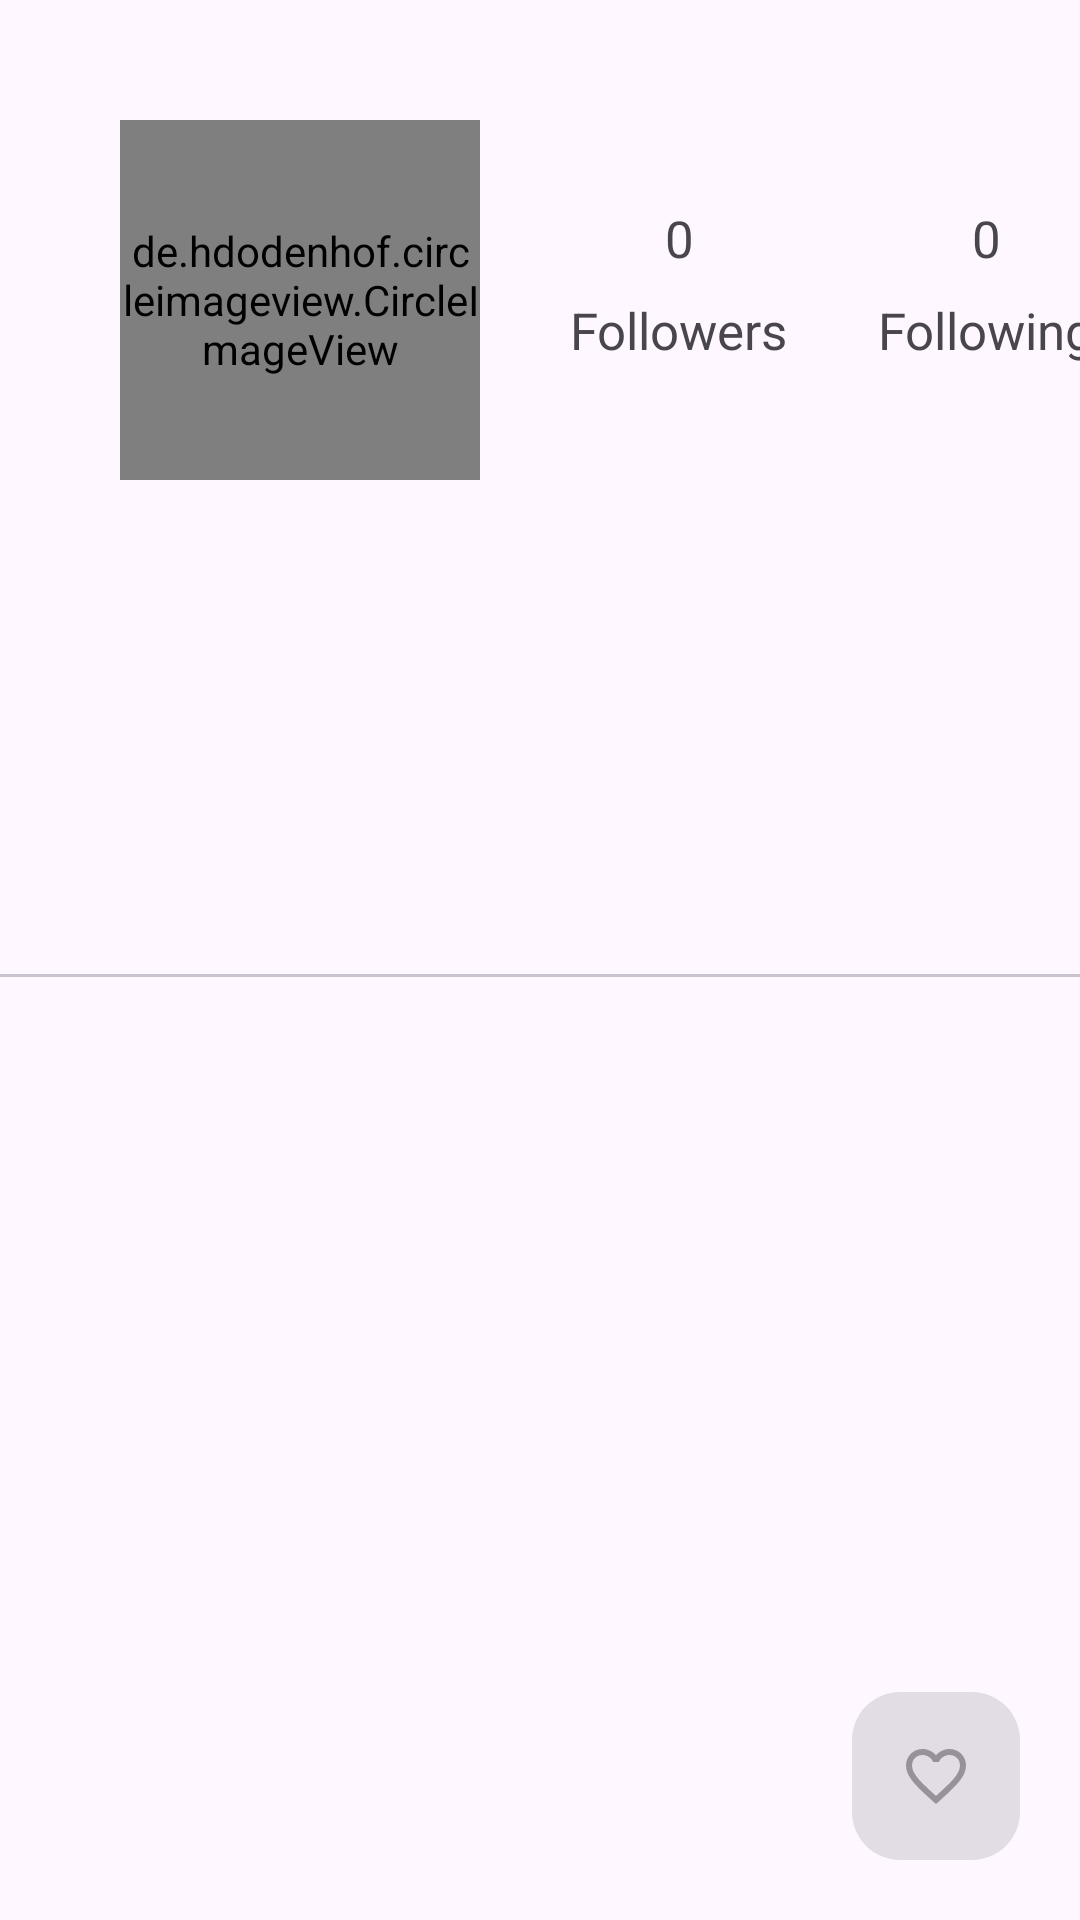

Icons on this 1080×1920 Android screen, each with its box as (left=x1, top=y1, right=x2, bottom=y2):
Button Favorite: (left=852, top=1692, right=1020, bottom=1860)
